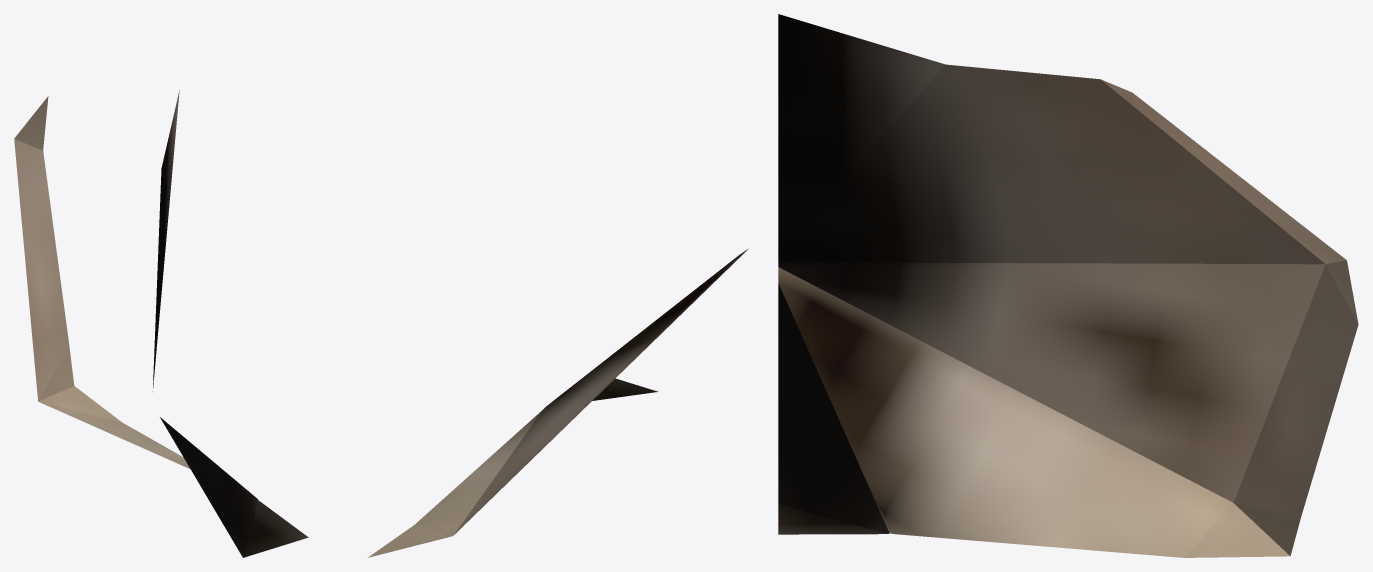
3 renders of one model, left to right at view 1: azimuth 30°, elevation 25°; view 2: azimuth 150°, elevation 25°; view 3: azimuth 270°, elevation 25°, orthographic. The views are drawn at different scales.
Bounding box in the file's own units: 0.1939 × 0.4943 × 0.5583.
Materials: 1 (1 with a texture image).
